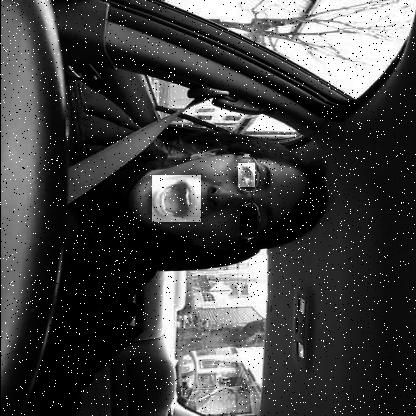seatbelt: (60, 79, 334, 281)
